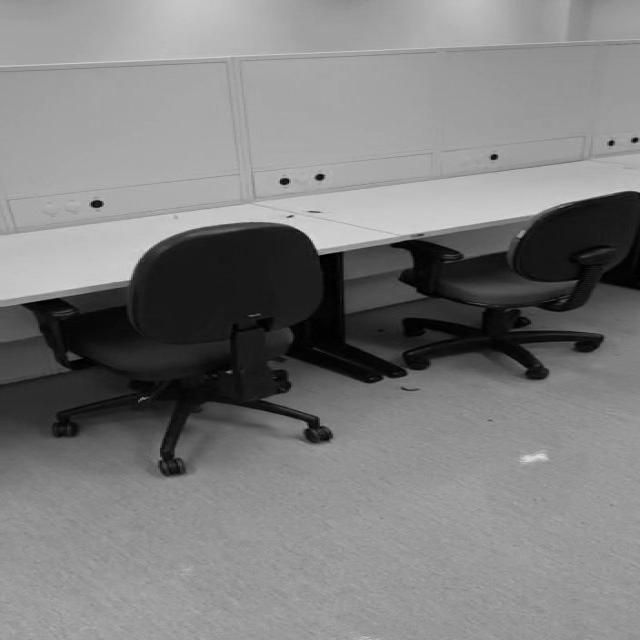cadeira-azul: (22, 222, 335, 476)
